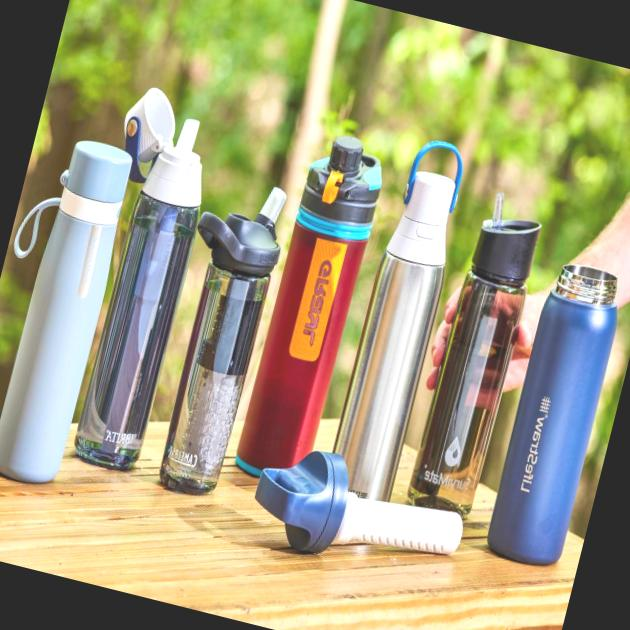waterbottle: (212, 136, 394, 510), (472, 245, 630, 594), (65, 128, 211, 481), (326, 146, 474, 492), (394, 208, 536, 528), (0, 152, 121, 510)
